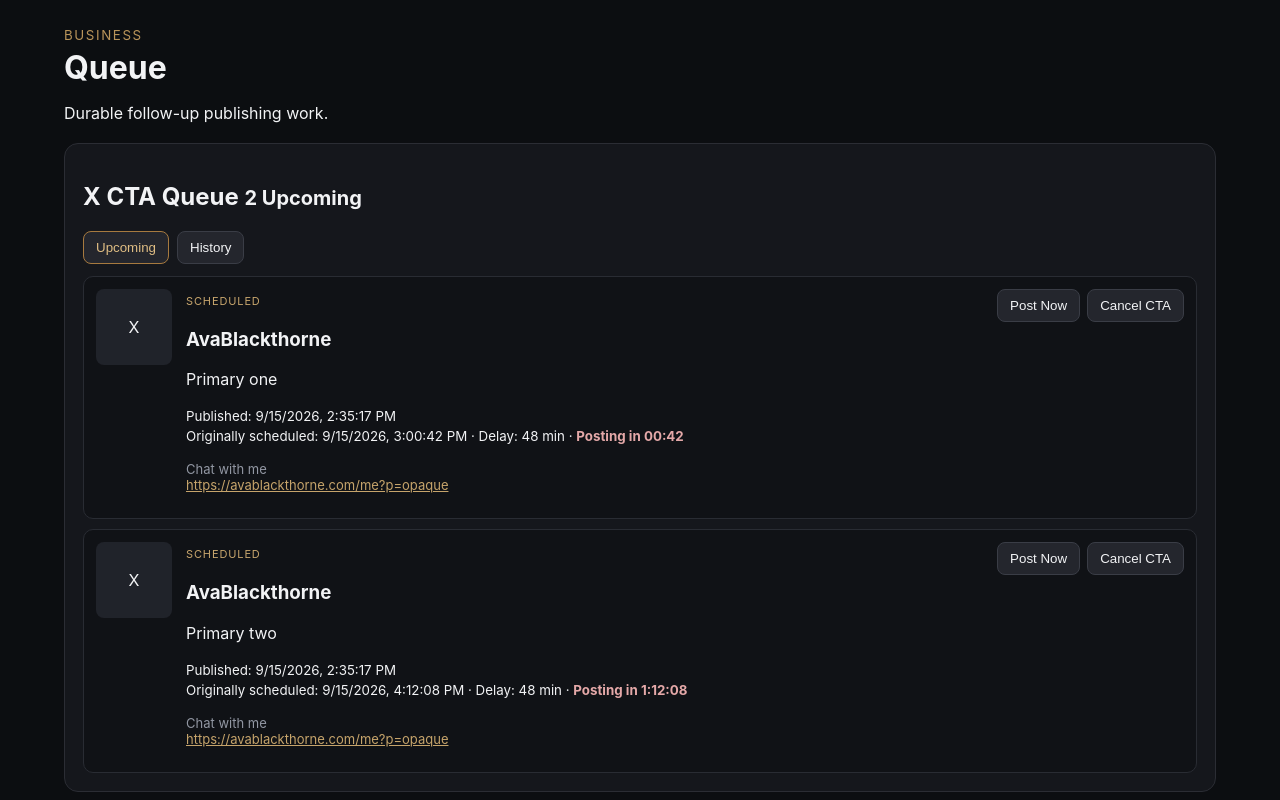
Scenario: BusinessQueuePage countdown lifecycle › keeps independent item timestamps and existing Upcoming/History behavior
The image size is (1280, 800).
expect the text "Primary one" is shown: met, box x1=186 y1=369 x2=277 y2=389
expect the text "Posting in 00:42" is shown: met, box x1=576 y1=428 x2=684 y2=444
Click the button "History". click: (211, 247)
box: x1=177 y1=231 x2=244 y2=264
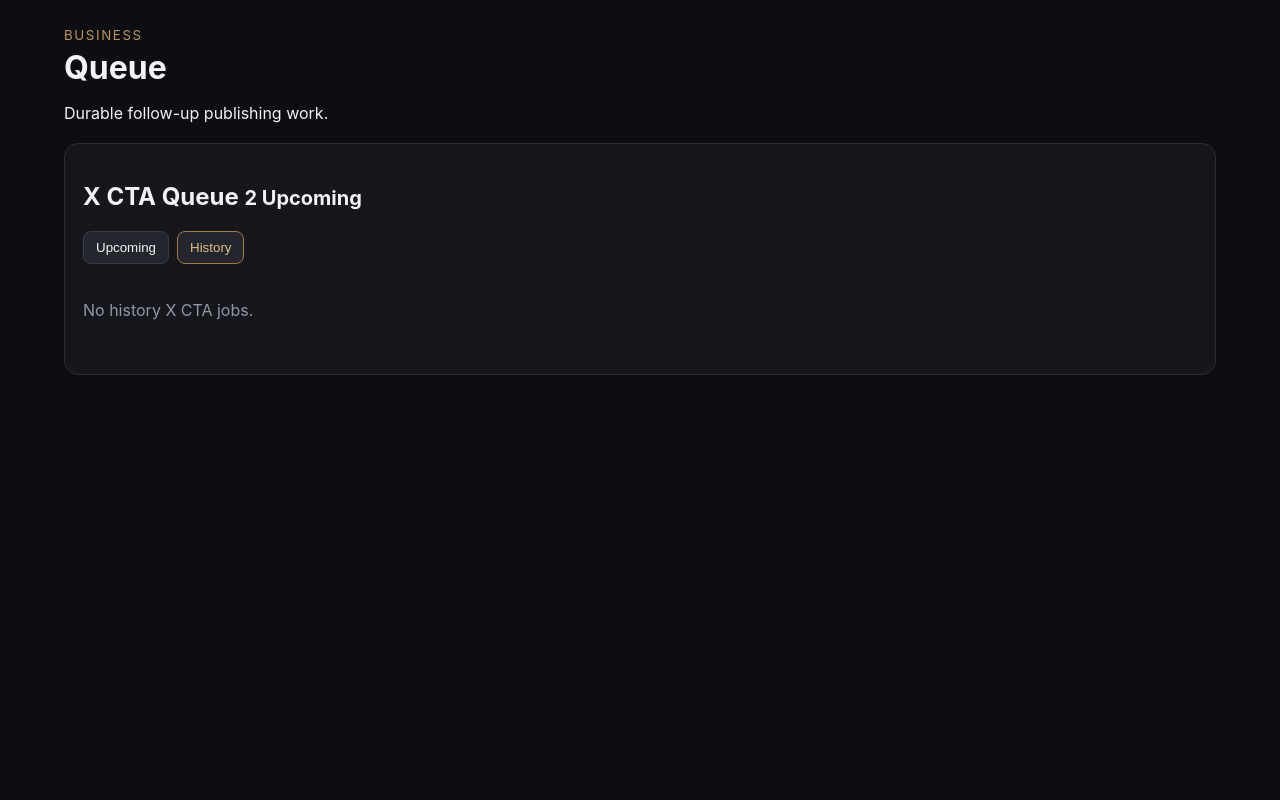
expect the text "No history X CTA jobs." is shown: met, box x1=83 y1=300 x2=253 y2=320
expect the text "Posting in" is gone: met
